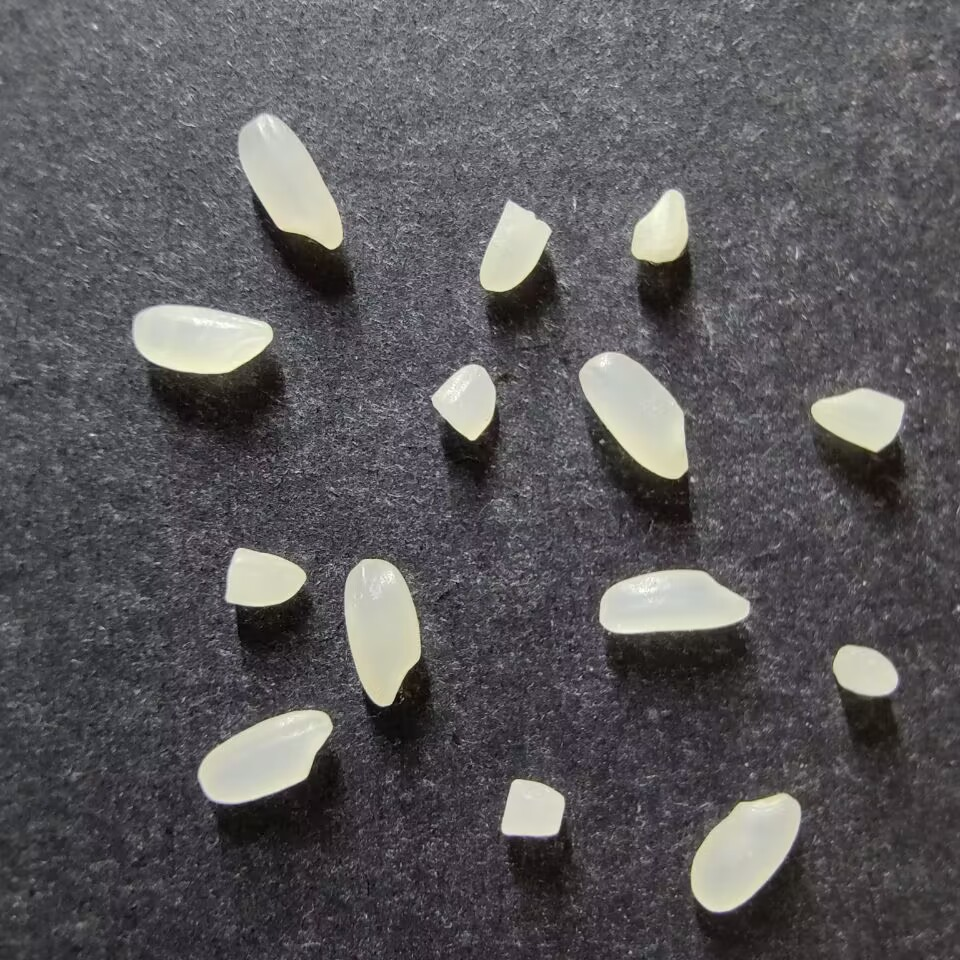broken: (478, 198, 551, 292), (810, 388, 904, 452), (429, 363, 496, 442), (224, 548, 305, 607), (630, 188, 688, 263), (500, 778, 564, 838), (831, 644, 899, 697)
rice: (237, 113, 343, 249), (577, 351, 689, 479), (689, 792, 801, 913), (197, 709, 333, 804), (342, 557, 421, 707), (132, 304, 273, 375), (598, 569, 750, 634)
